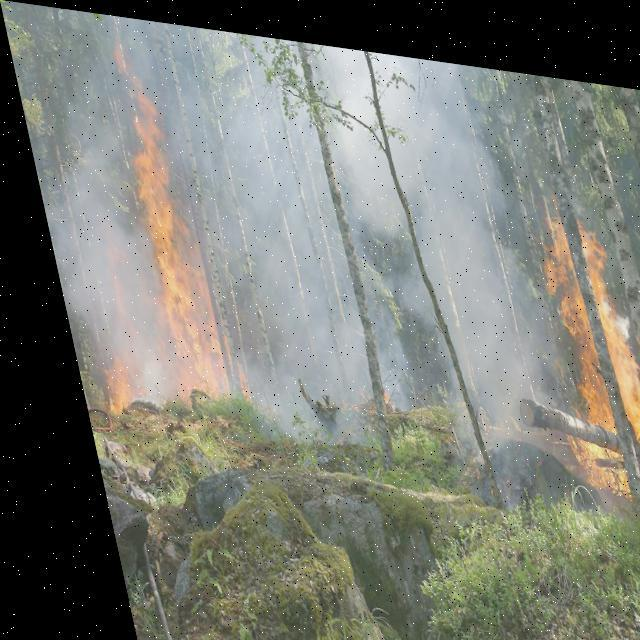Fire: (15, 18, 254, 440), (502, 159, 639, 505)
